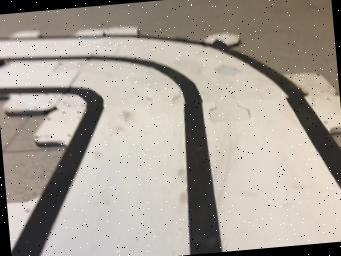street: (0, 33, 341, 256), (0, 33, 341, 256), (0, 33, 341, 256)
